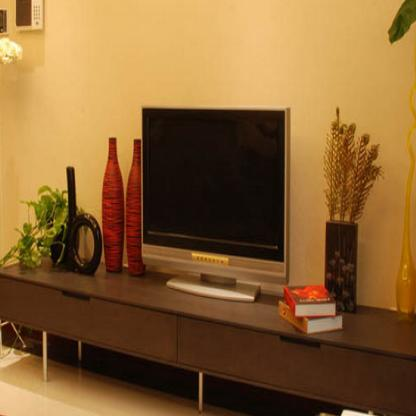TV stand: (0, 262, 416, 416)
